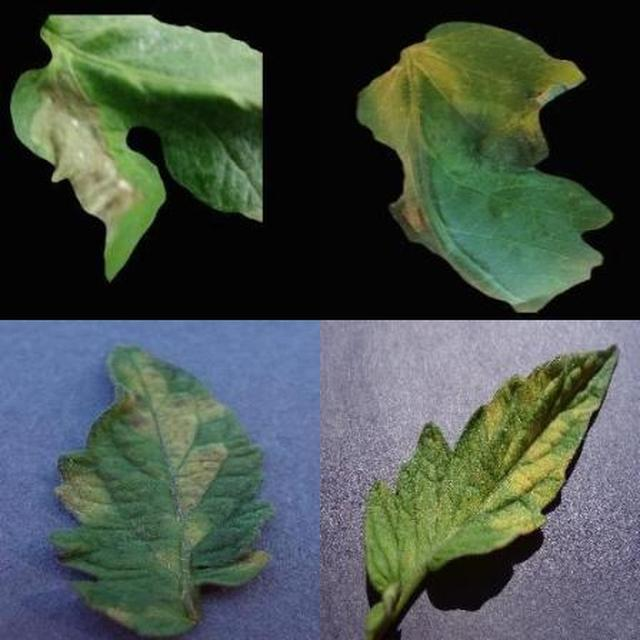Late Blight Leaf: (195, 216, 640, 640)
